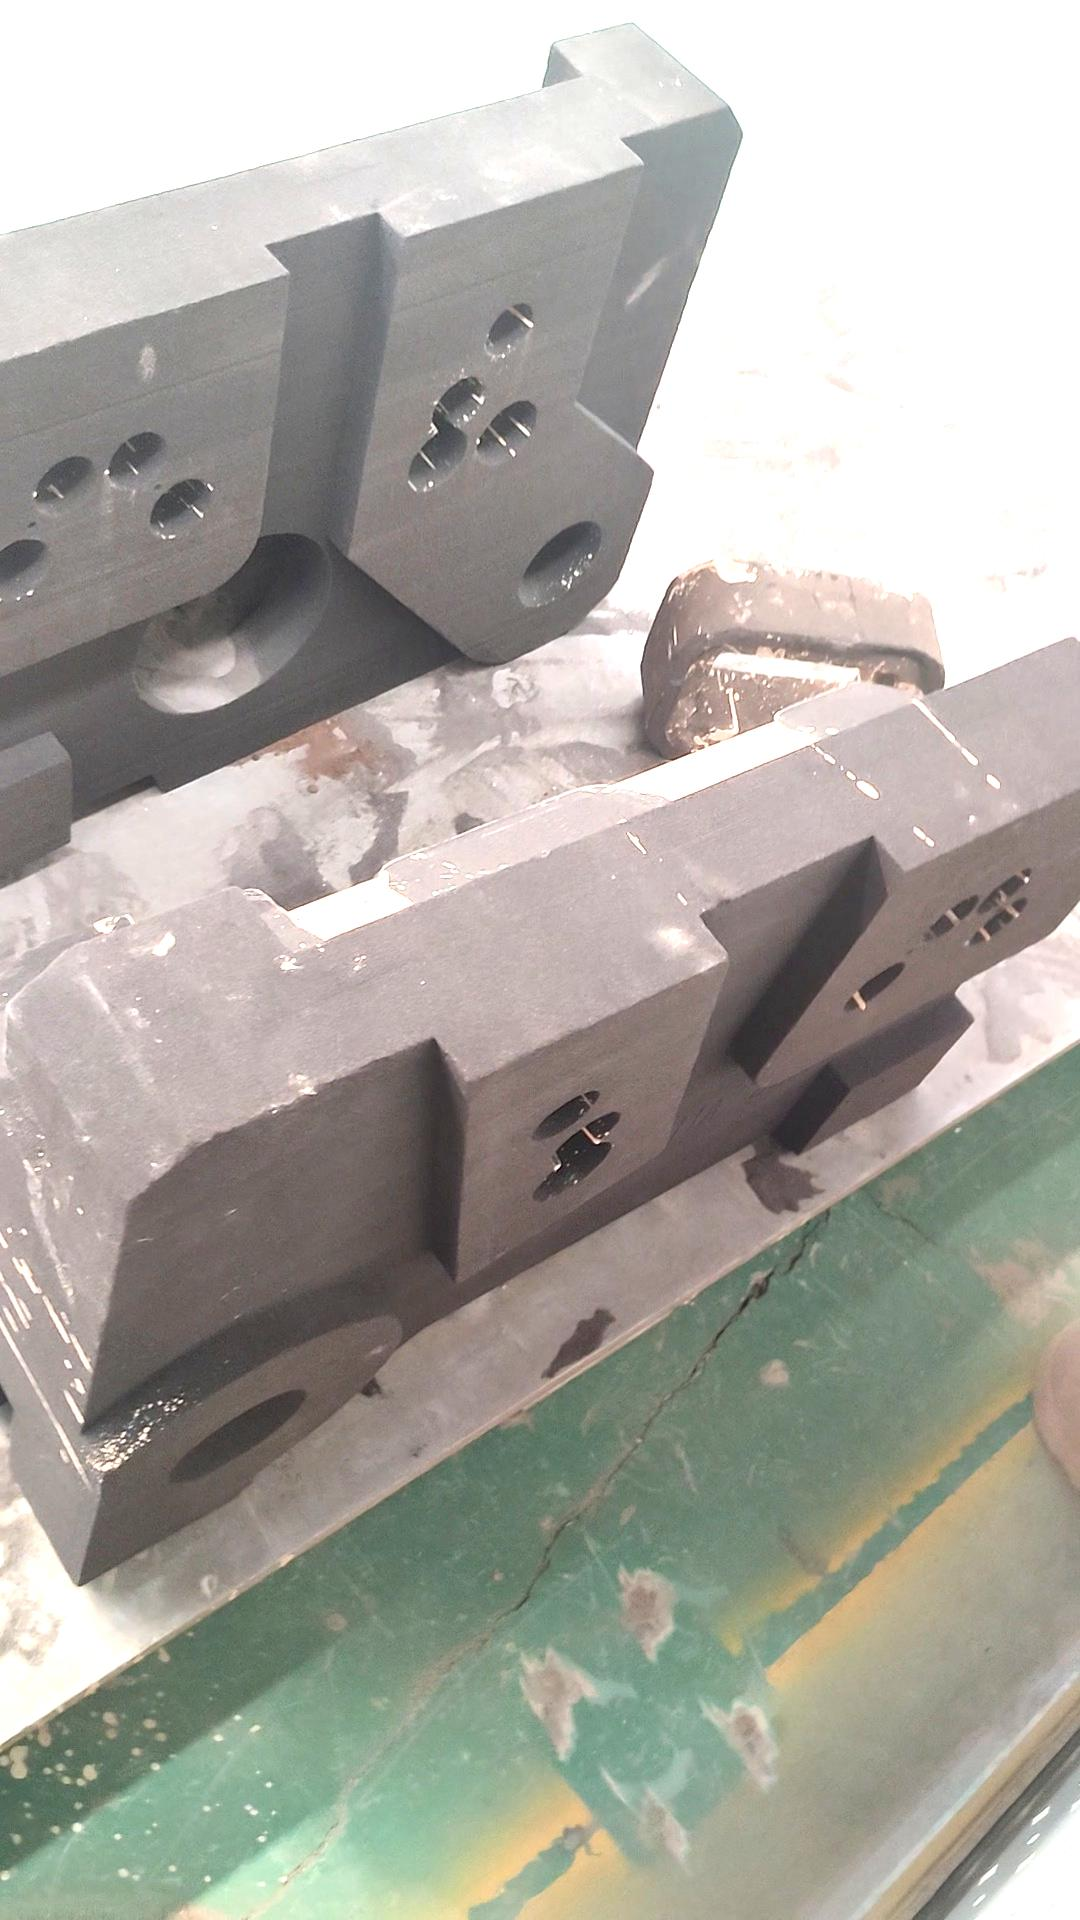pouring hole: (169, 1389, 307, 1484), (517, 521, 603, 608)
